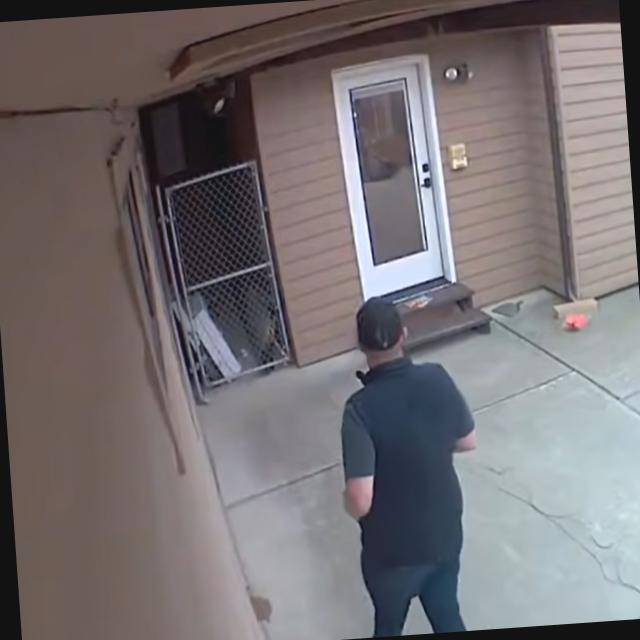person: (328, 289, 488, 637)
